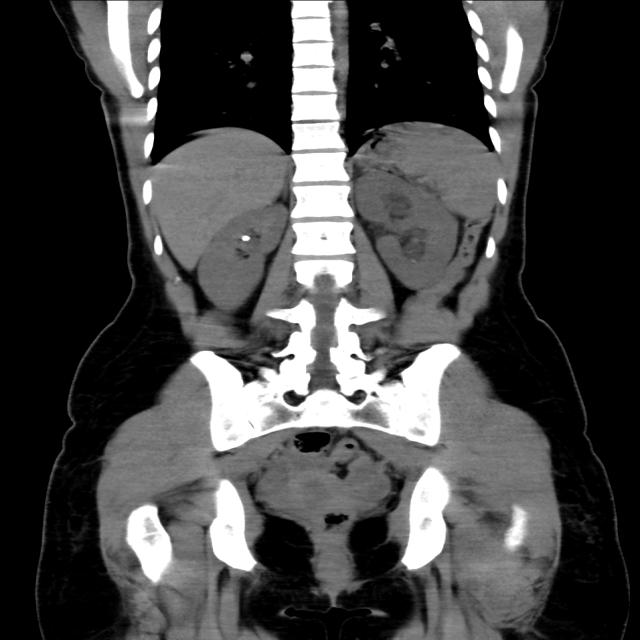kidneystone: (240, 235, 250, 241)
